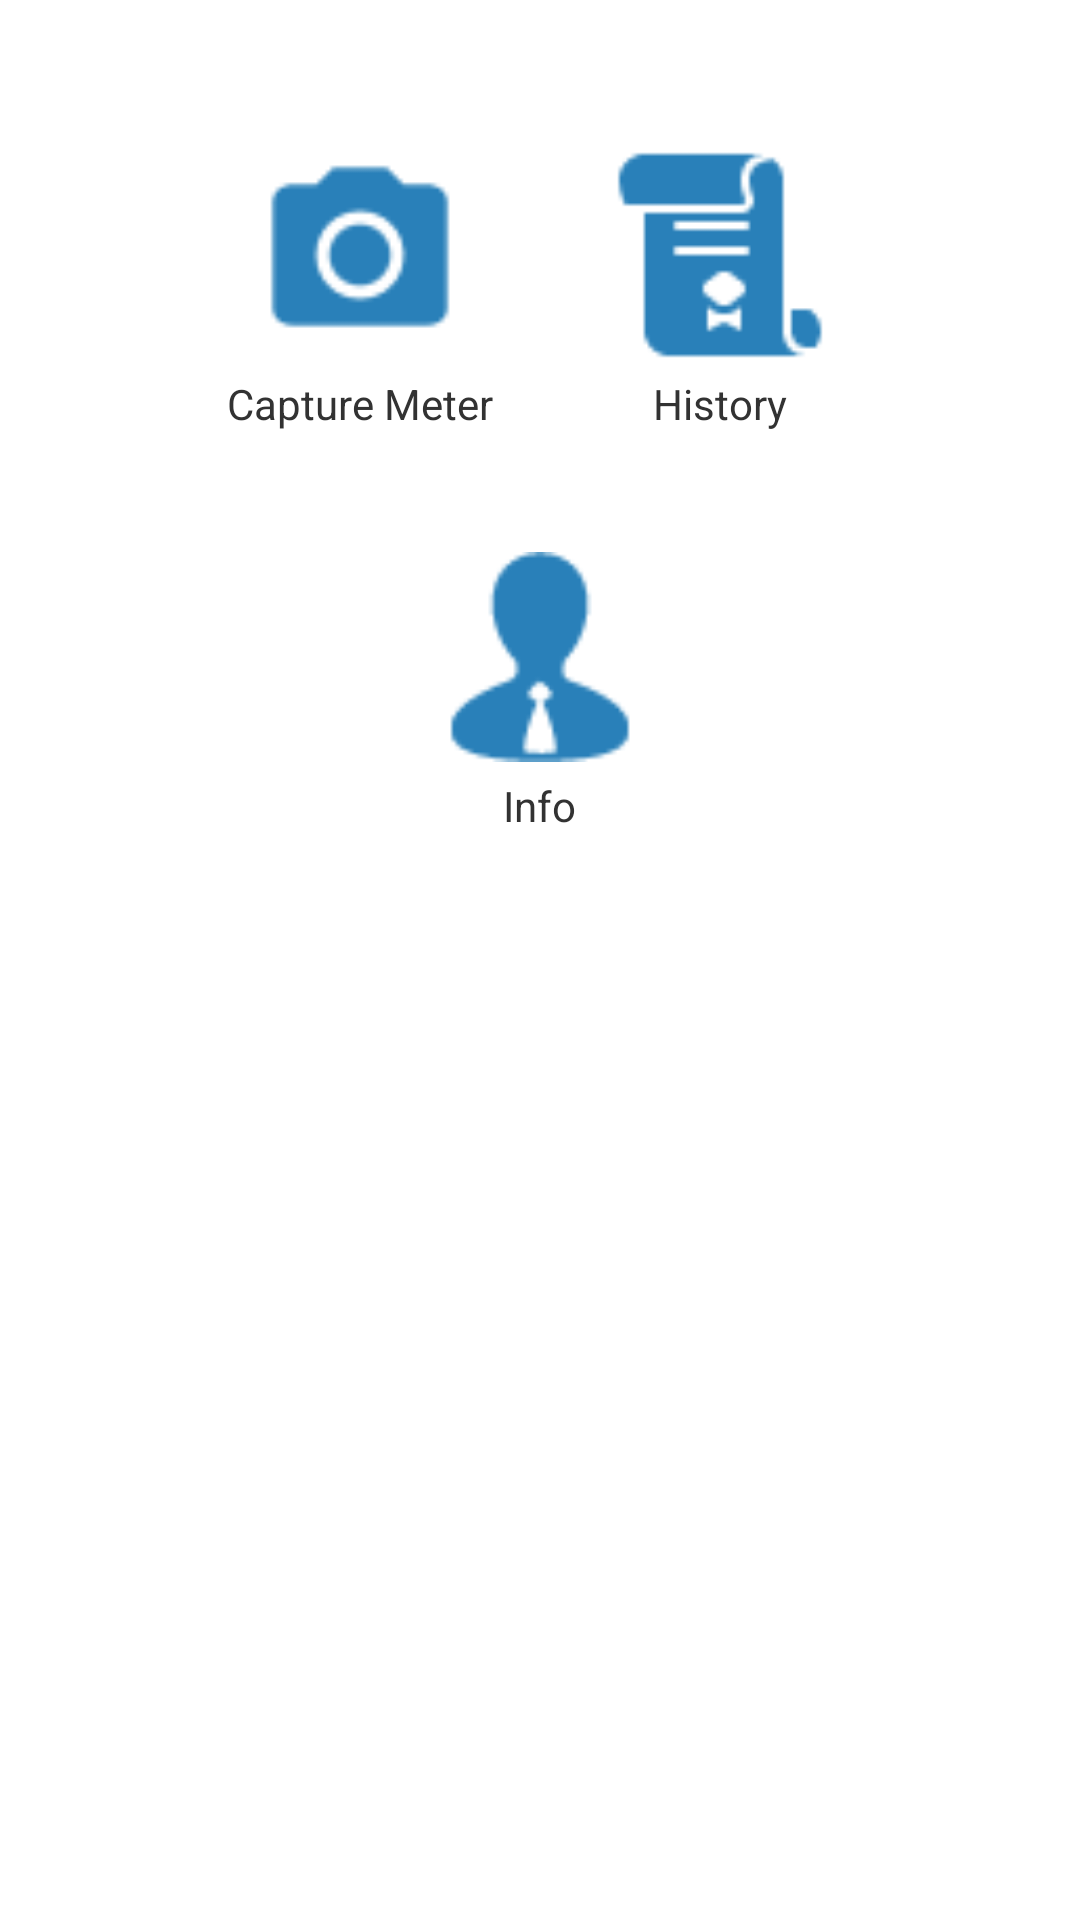

Icons on this 1080*1920 Android screen, each with the point to tap as (x=x, y=y):
administrator: (x=540, y=657)
camera: (x=360, y=246)
